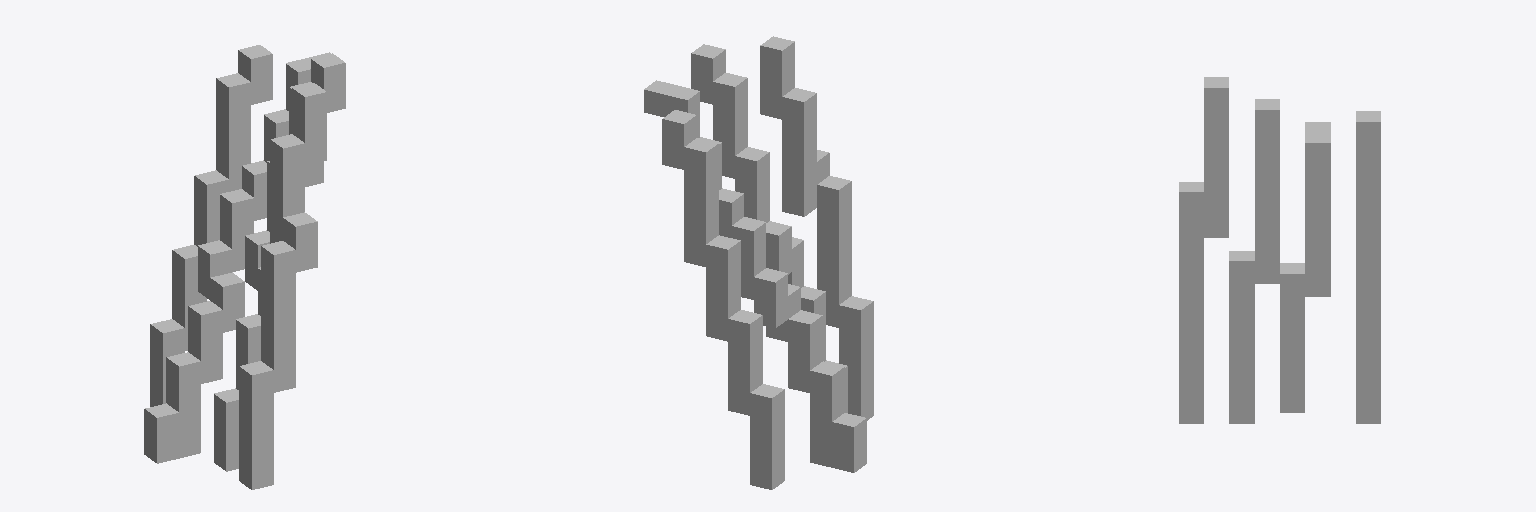
Rendered from grass.obj.
3 renders of one model, left to right at view 1: azimuth 30°, elevation 25°; view 2: azimuth 150°, elevation 25°; view 3: azimuth 270°, elevation 25°, orthographic.
Parts seen in each view (by area): view 1: object 1; view 2: object 1; view 3: object 1.
Boxes of the visible parts, x1,y1,x2,y2 form: object 1: [144, 45, 345, 489]; object 1: [644, 36, 873, 489]; object 1: [1179, 77, 1380, 423].
Bounding box in the file's own units: 0.9 × 1.6 × 0.8.